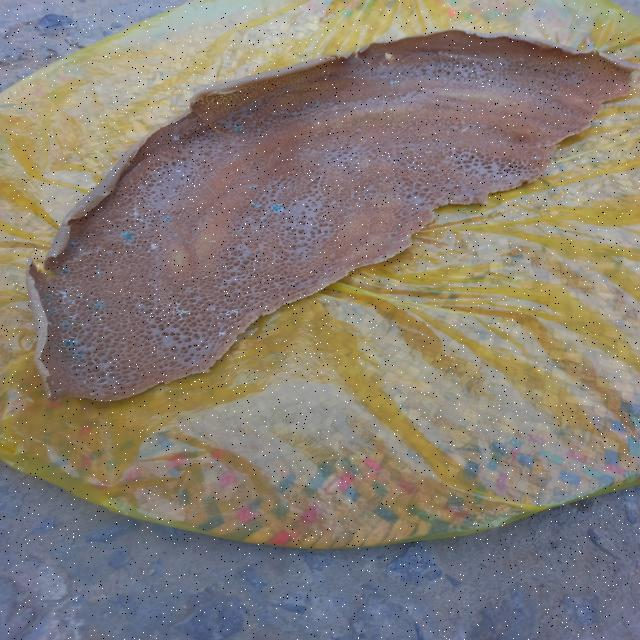injera_mold: (54, 286, 84, 306), (169, 301, 192, 321), (217, 308, 243, 320), (131, 206, 144, 222), (121, 230, 135, 243), (62, 337, 79, 346), (270, 203, 284, 212), (74, 350, 86, 360), (92, 302, 106, 310), (250, 201, 262, 208), (62, 266, 72, 274), (61, 322, 73, 328), (218, 331, 228, 337), (54, 388, 63, 394), (173, 135, 180, 142), (150, 244, 158, 250), (208, 240, 218, 244), (248, 184, 258, 188), (69, 314, 78, 318), (234, 126, 243, 130), (164, 216, 171, 221), (50, 308, 58, 312), (201, 276, 209, 280), (390, 80, 398, 84), (95, 270, 100, 276), (69, 242, 76, 245), (46, 294, 51, 298), (173, 233, 178, 237), (261, 217, 265, 222), (177, 170, 182, 172), (90, 393, 94, 395), (147, 251, 151, 253)
